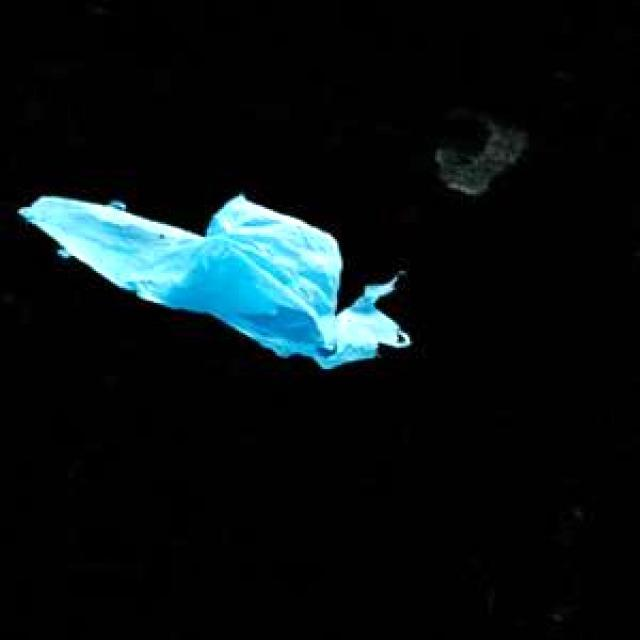Plastic_Bag: (16, 193, 407, 366)
